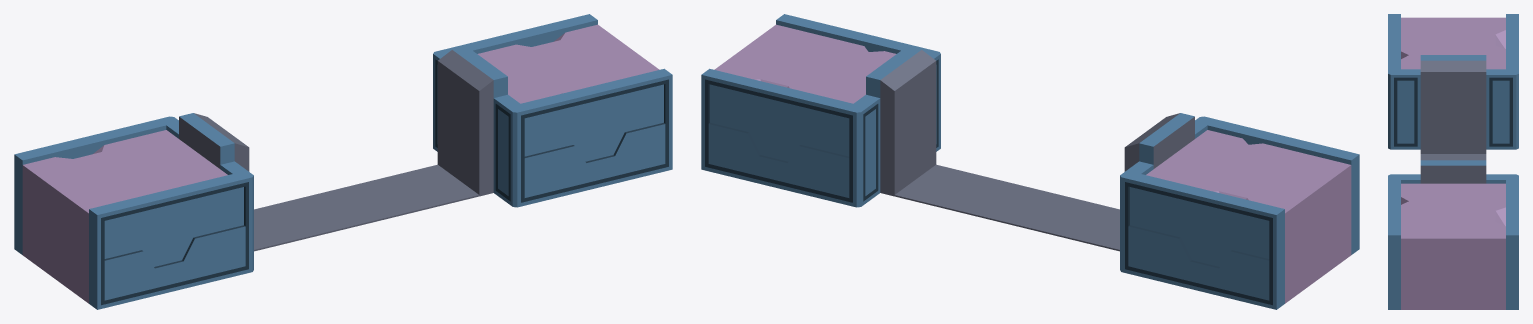
Rendered from Door_stage.fbx.
3 renders of one model, left to right at view 1: azimuth 30°, elevation 25°; view 2: azimuth 150°, elevation 25°; view 3: azimuth 270°, elevation 25°, orthographic. The views are drawn at different scales.
Visible parts, largest first — view 1: Door_stage; view 2: Door_stage; view 3: Door_stage.
Part boxes in pixels (x1,y1,x2,y2): Door_stage: (14, 14, 672, 309); Door_stage: (701, 14, 1359, 309); Door_stage: (1388, 14, 1518, 309).
Size of the model in its own units: 4000 by 750 by 1000.
